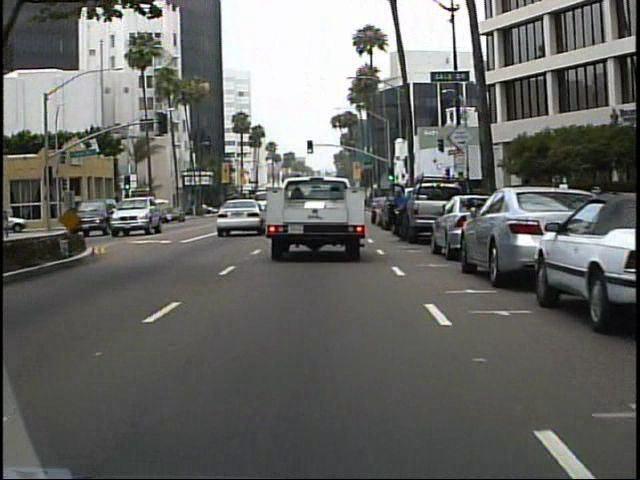person: (387, 184, 410, 237)
